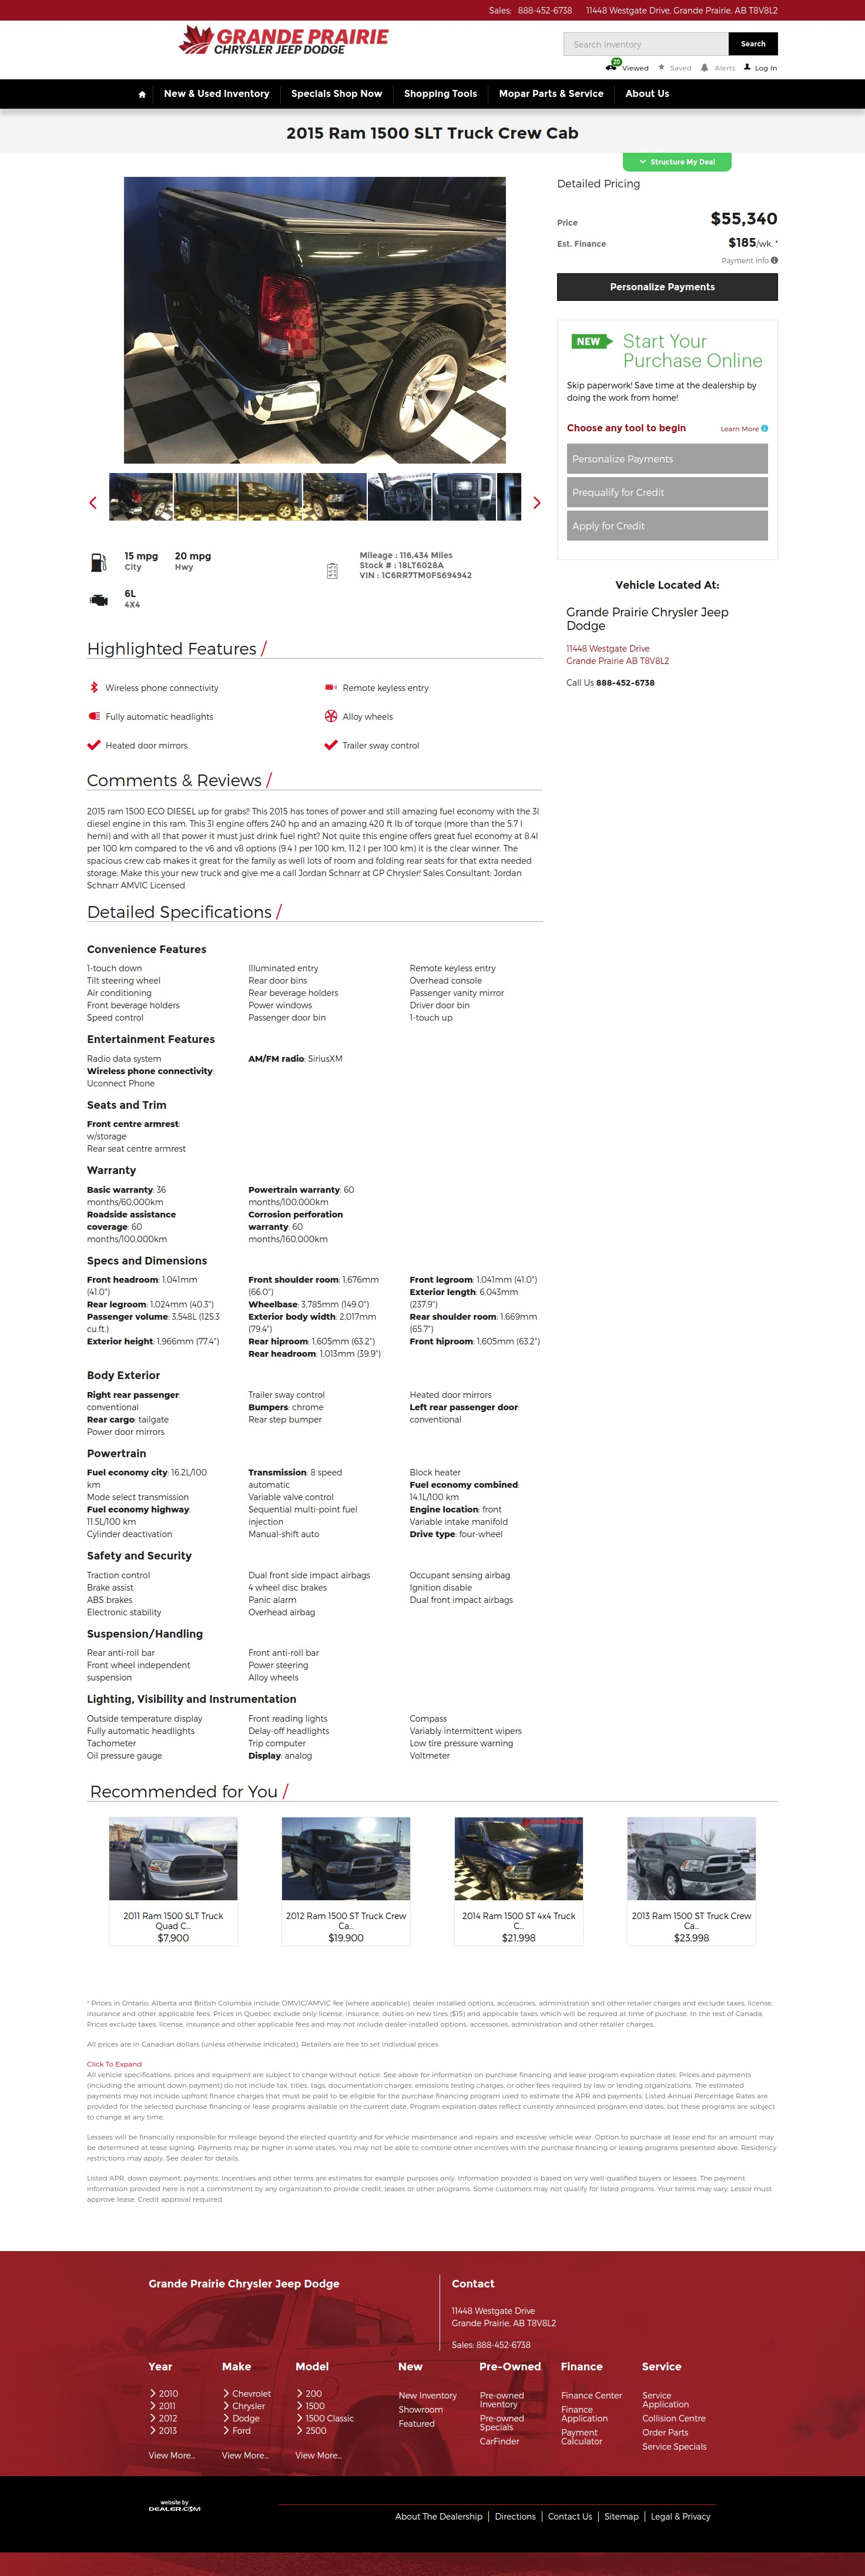car: (533, 496, 541, 509)
